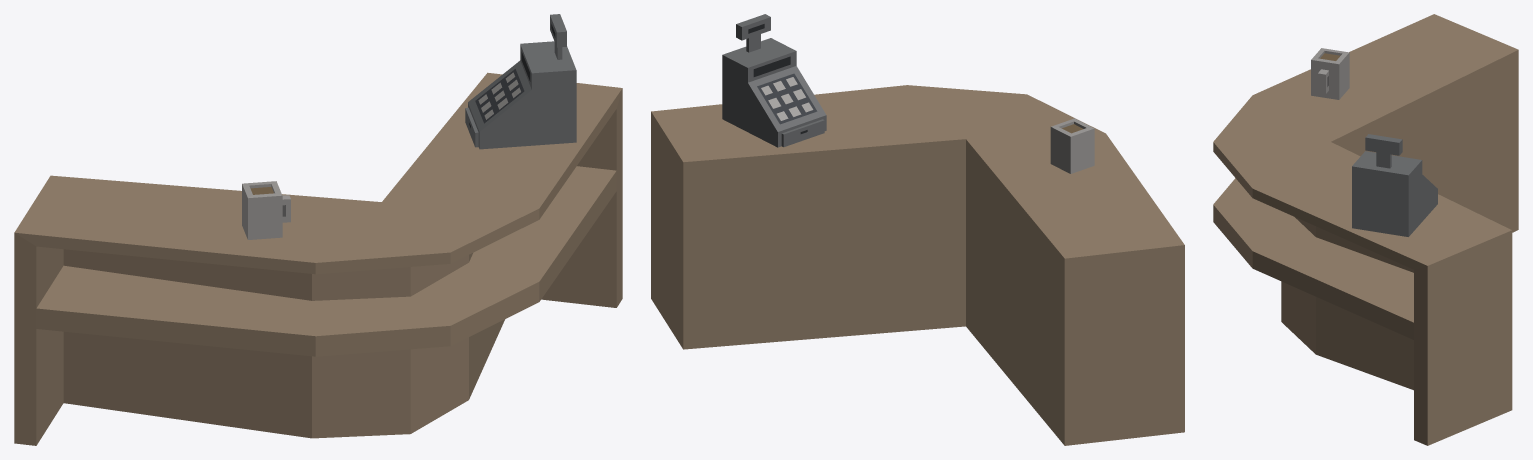
File: SM_Prop_ShopInterior_Desk_02.glb
3 views of the same model, side by side, from view 1: azimuth 30°, elevation 25°; view 2: azimuth 150°, elevation 25°; view 3: azimuth 270°, elevation 25° (orthographic). The views are drawn at different scales.
Parts seen in each view (by area): view 1: SM_Prop_ShopInterior_Desk_02; view 2: SM_Prop_ShopInterior_Desk_02; view 3: SM_Prop_ShopInterior_Desk_02.
Boxes of the visible parts, left/top/right/bottom form: SM_Prop_ShopInterior_Desk_02: left=14, top=14, right=622, bottom=445; SM_Prop_ShopInterior_Desk_02: left=651, top=14, right=1184, bottom=445; SM_Prop_ShopInterior_Desk_02: left=1213, top=14, right=1518, bottom=445.
Bounding box in the file's own units: 0.0249 × 0.0125 × 0.0128.
1 material, 1 textured.
